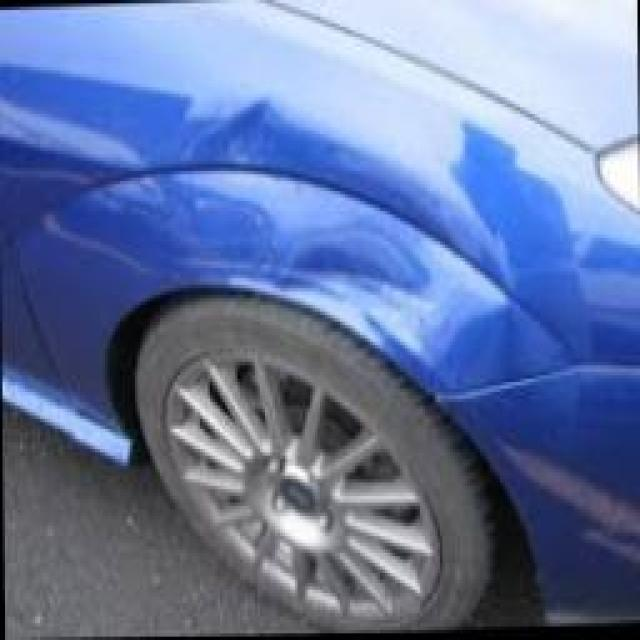Fender: (259, 130, 563, 399)
